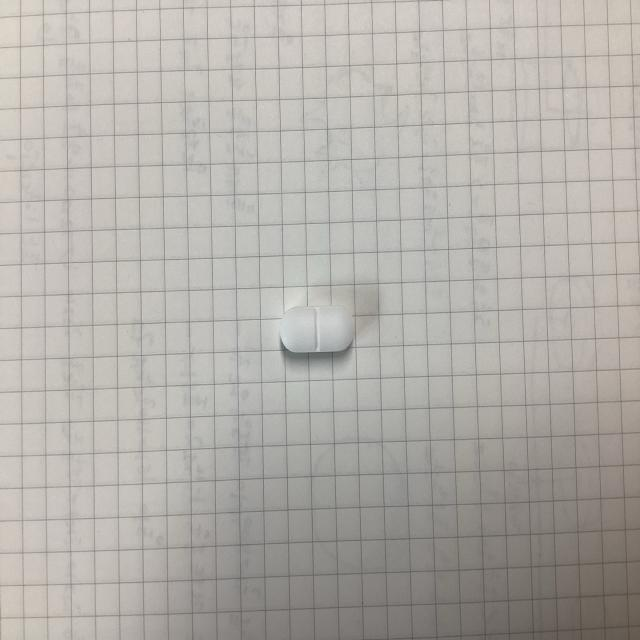-: (273, 285, 363, 358)
